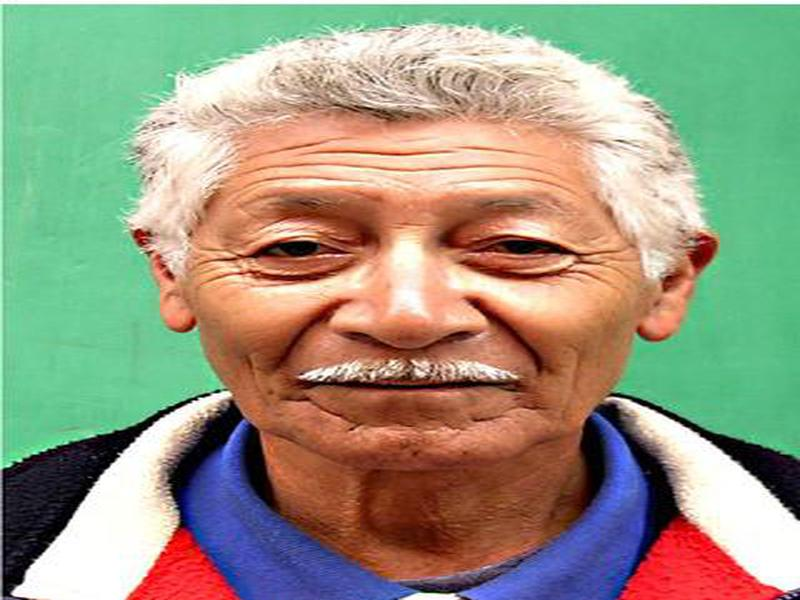without_mask: (189, 146, 628, 463)
